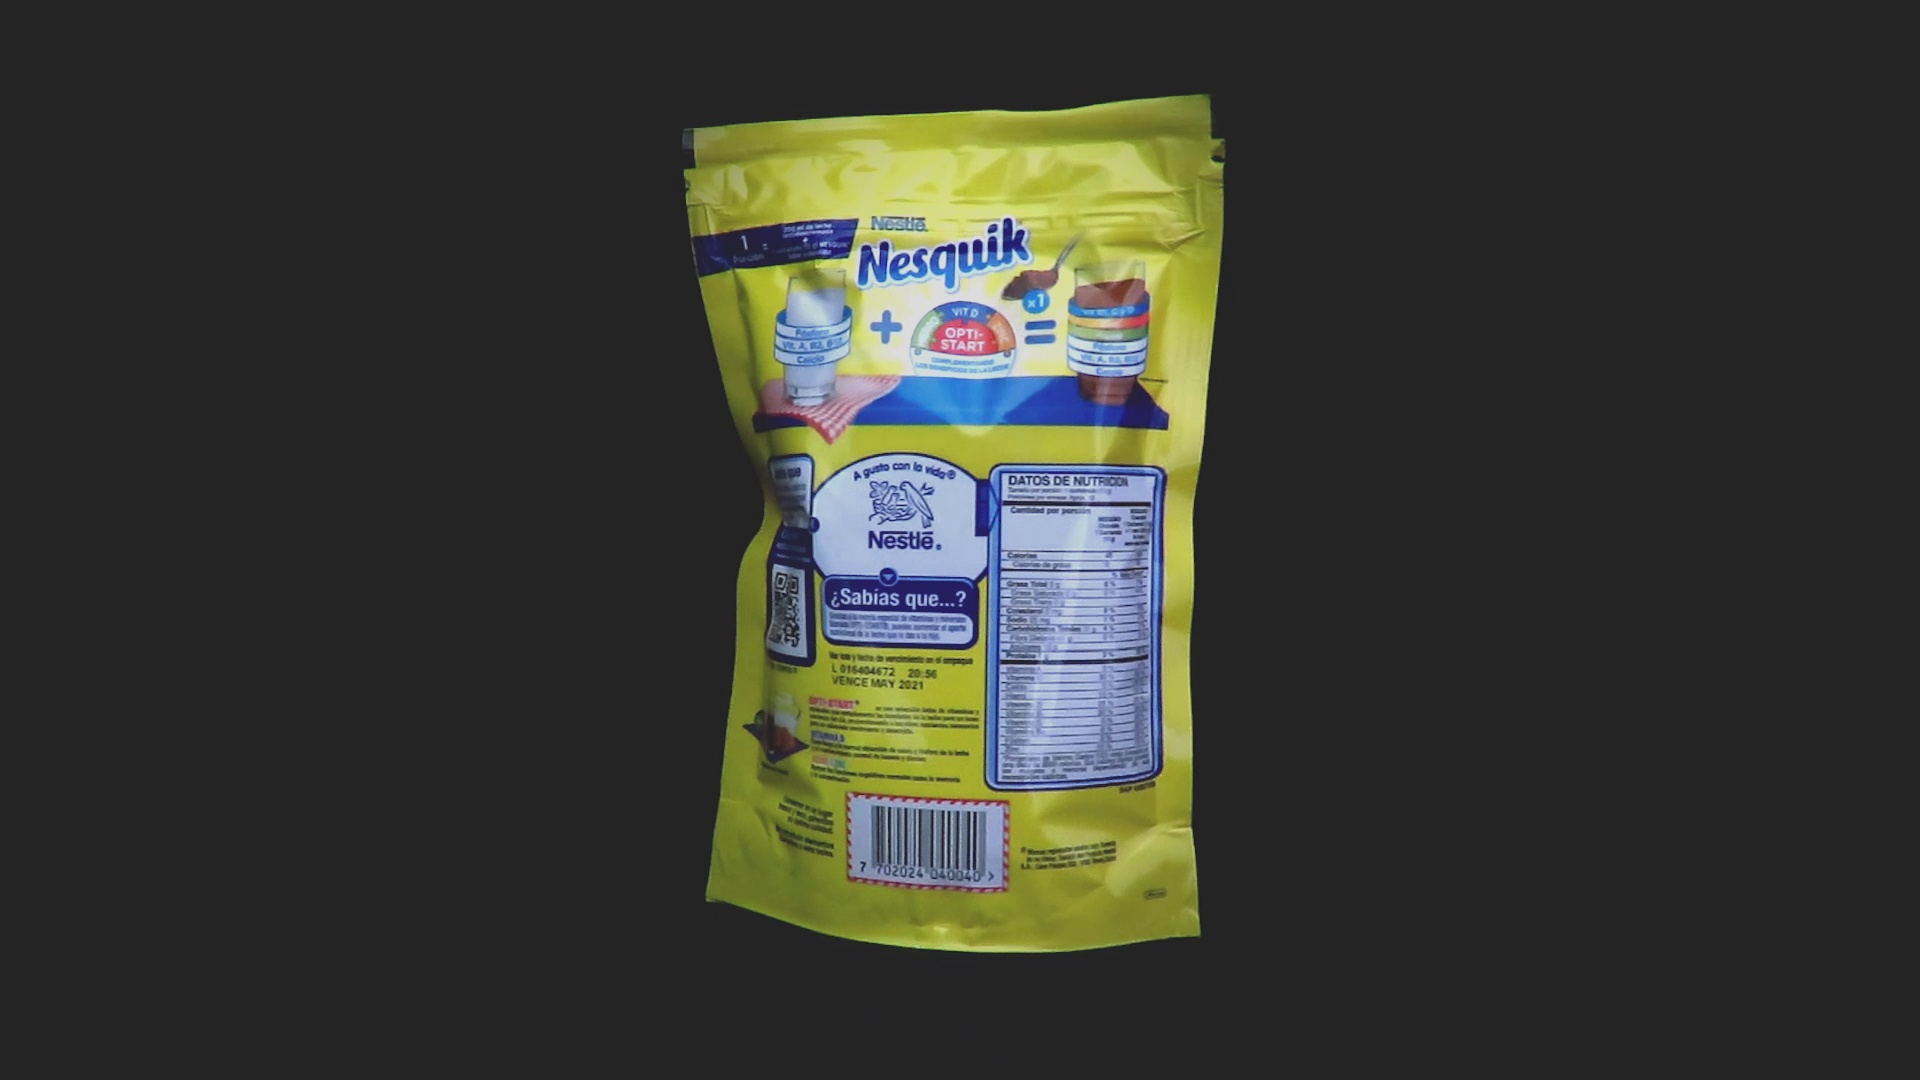COL0170303DYP20000: (678, 88, 1232, 959)
